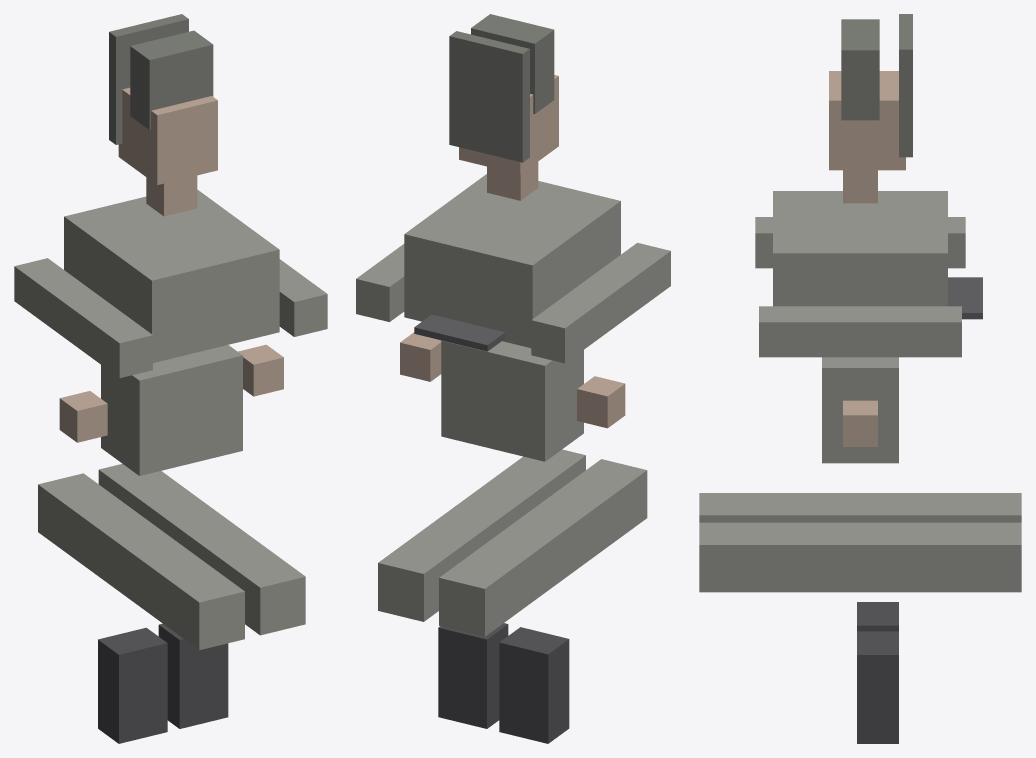
The model's file is crew_ruiz.glb.
3 renders of one model, left to right at view 1: azimuth 30°, elevation 25°; view 2: azimuth 150°, elevation 25°; view 3: azimuth 270°, elevation 25°, orthographic.
Parts seen in each view (by area): view 1: torso, leg_-1, pelvis, leg_1, arm_l, boot_-1, head, cap_top, boot_1, cap_brim, arm_r_mesh, hand_l (+2 smaller); view 2: torso, leg_-1, pelvis, leg_1, cap_brim, arm_l, boot_-1, boot_1, cap_top, arm_r_mesh, head, hand_l (+3 smaller); view 3: leg_1, torso, arm_r_mesh, leg_-1, pelvis, head, boot_1, cap_top, cap_brim, arm_l, hand_r, clipboard (+2 smaller).
Boxes of the visible parts, <box> form: torso: <box>64,189,279,362</box>; leg_-1: <box>38,473,244,650</box>; pelvis: <box>101,345,242,475</box>; leg_1: <box>98,464,305,635</box>; arm_l: <box>14,258,152,378</box>; boot_-1: <box>98,627,167,743</box>; head: <box>118,87,217,184</box>; cap_top: <box>130,30,213,129</box>; boot_1: <box>158,623,228,728</box>; cap_brim: <box>109,14,188,144</box>; arm_r_mesh: <box>279,259,327,336</box>; hand_l: <box>59,391,107,442</box>; torso: <box>404,174,620,347</box>; leg_-1: <box>439,459,647,636</box>; pelvis: <box>441,340,583,461</box>; leg_1: <box>378,449,585,621</box>; cap_brim: <box>449,31,529,162</box>; arm_l: <box>531,243,670,363</box>; boot_-1: <box>499,627,569,743</box>; boot_1: <box>438,623,508,728</box>; cap_top: <box>471,14,554,113</box>; arm_r_mesh: <box>356,244,404,321</box>; head: <box>459,75,558,174</box>; hand_l: <box>577,376,625,428</box>; leg_1: <box>699,522,1021,592</box>; torso: <box>773,191,947,306</box>; arm_r_mesh: <box>759,306,961,357</box>; leg_-1: <box>699,493,1021,522</box>; pelvis: <box>822,357,898,463</box>; head: <box>829,71,905,170</box>; boot_1: <box>857,631,898,743</box>; cap_top: <box>841,19,879,120</box>; cap_brim: <box>899,14,912,157</box>; arm_l: <box>755,217,965,268</box>; hand_r: <box>843,400,877,446</box>; clipboard: <box>948,277,982,319</box>.
Size of the model in its own units: 0.69 by 2.16 by 0.92.
